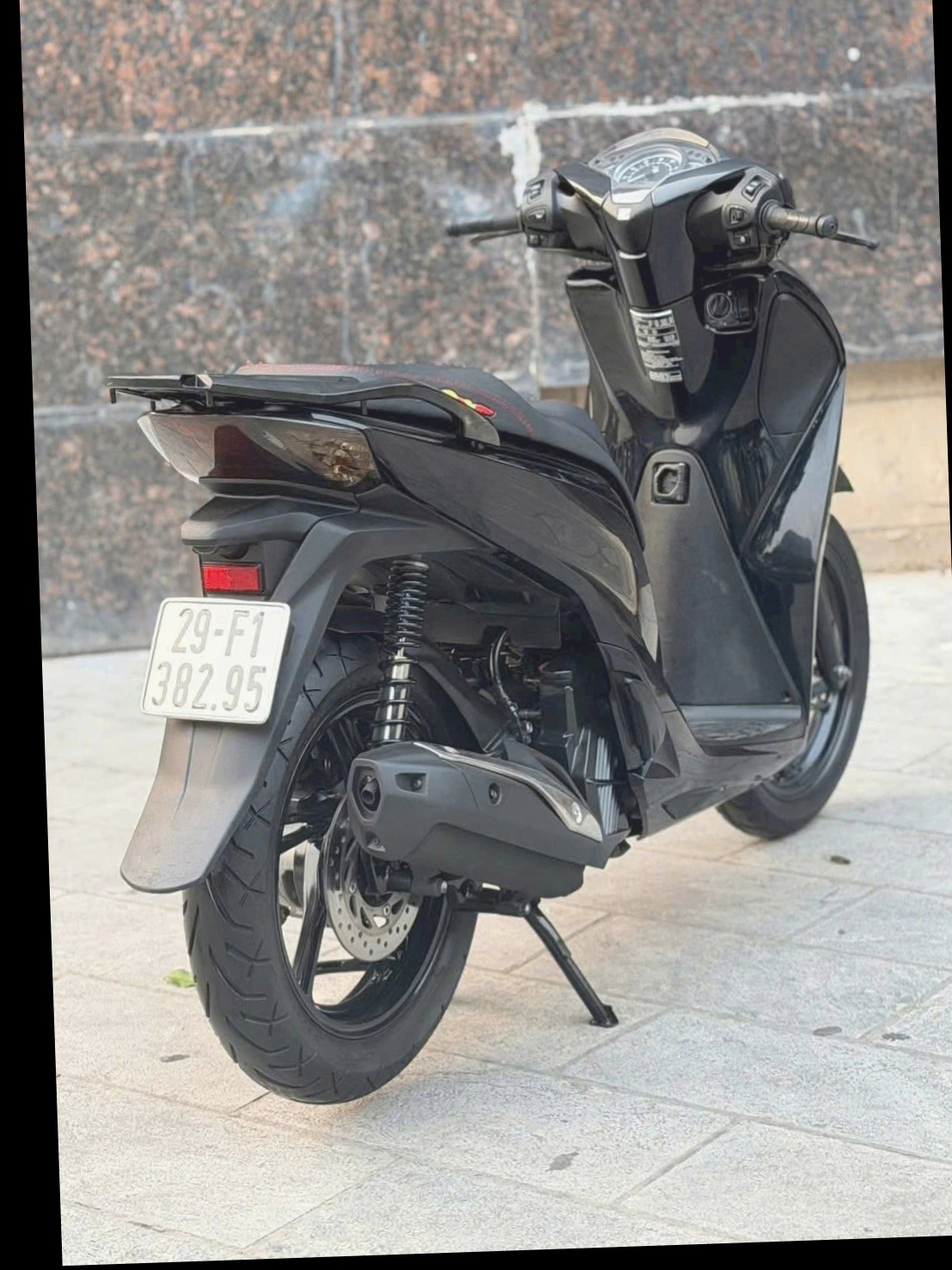Bien-so: (88, 580, 261, 727)
